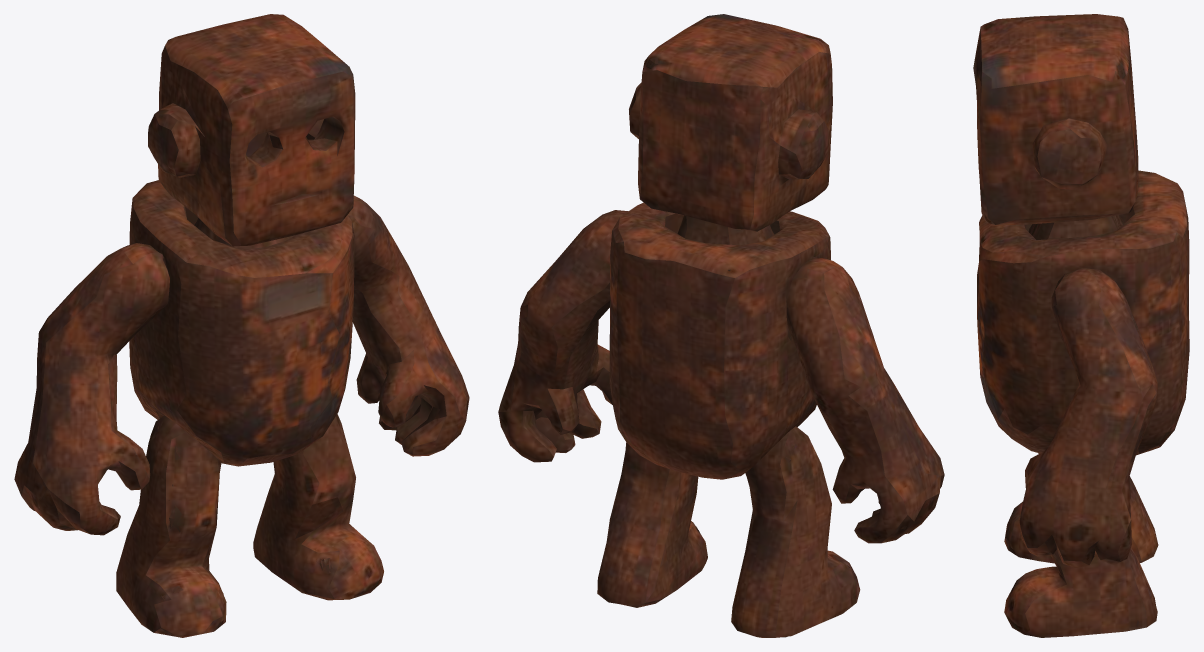
File: a-rusty-iron-golem-857e1b.glb
The picture shows the model from 3 angles, left to right: view 1: azimuth 30°, elevation 25°; view 2: azimuth 150°, elevation 25°; view 3: azimuth 270°, elevation 25°; orthographic projection.
Visible parts, largest first — view 1: geometry_0; view 2: geometry_0; view 3: geometry_0.
Boxes of the visible parts, bbox=[...] form: geometry_0: bbox=[14, 14, 469, 637]; geometry_0: bbox=[498, 14, 944, 637]; geometry_0: bbox=[973, 14, 1189, 637].
Size of the model in its own units: 0.8001 by 1 by 0.3574.
1 material, 1 textured.
